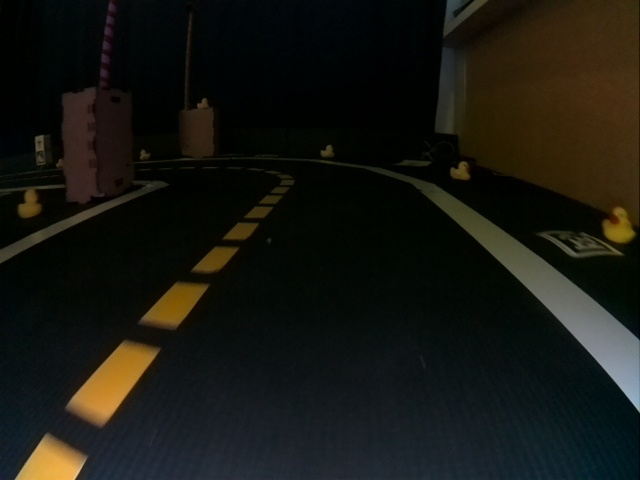Duckie: (604, 208, 634, 242), (18, 190, 41, 217), (452, 161, 470, 179), (321, 146, 333, 158), (198, 98, 208, 108), (56, 158, 65, 167), (140, 150, 149, 159)
Intersection sign: (35, 136, 45, 149)
QR code: (540, 230, 623, 258), (35, 149, 45, 165)
